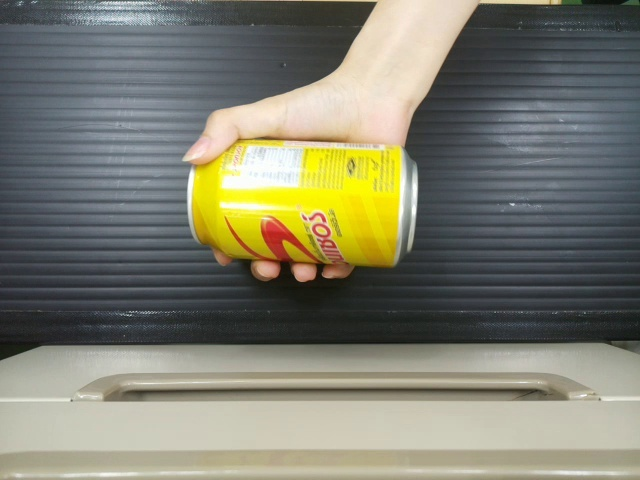can: (183, 137, 414, 263)
